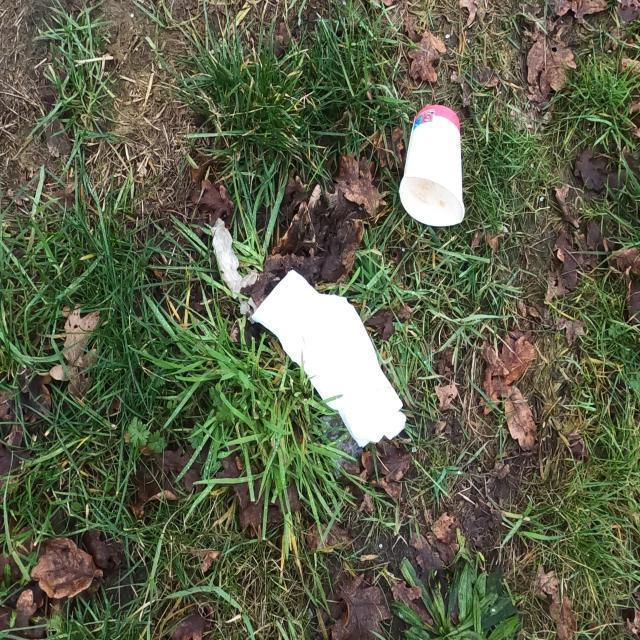Cup: (398, 102, 466, 228)
Paper: (252, 266, 408, 453), (208, 216, 260, 300)
